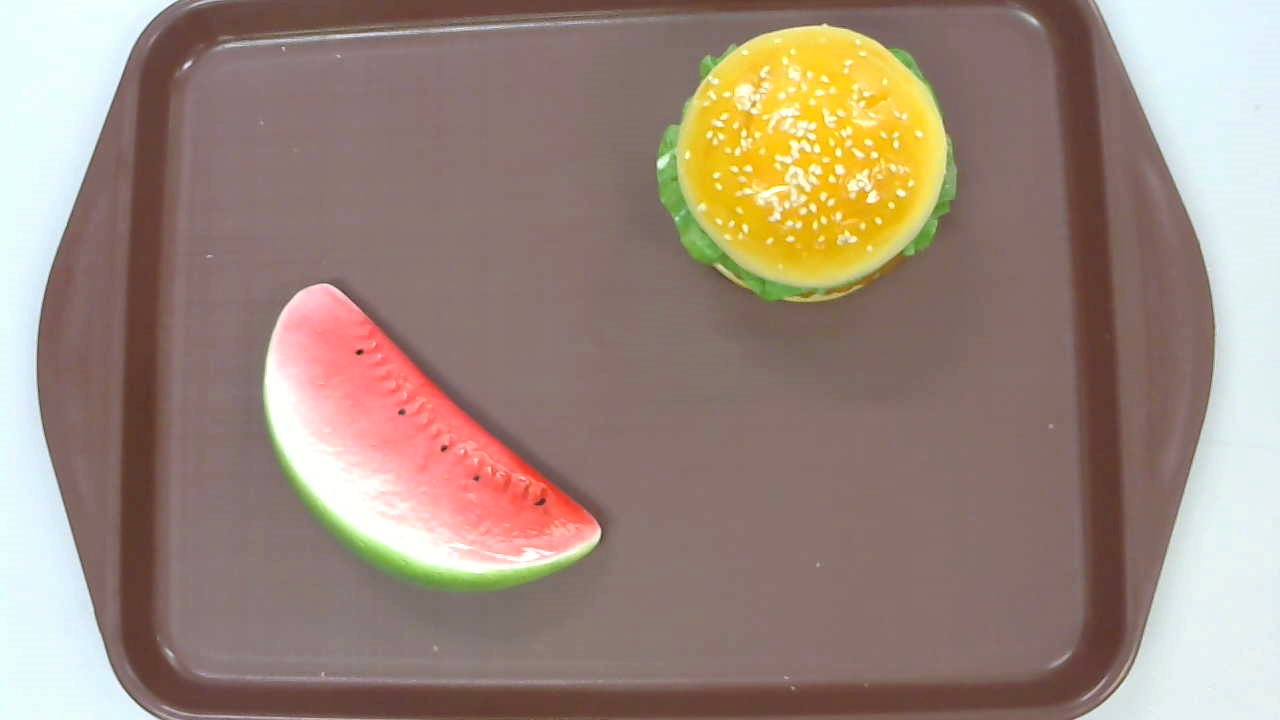hamburger: (655, 23, 957, 303)
water melon: (260, 282, 602, 594)
